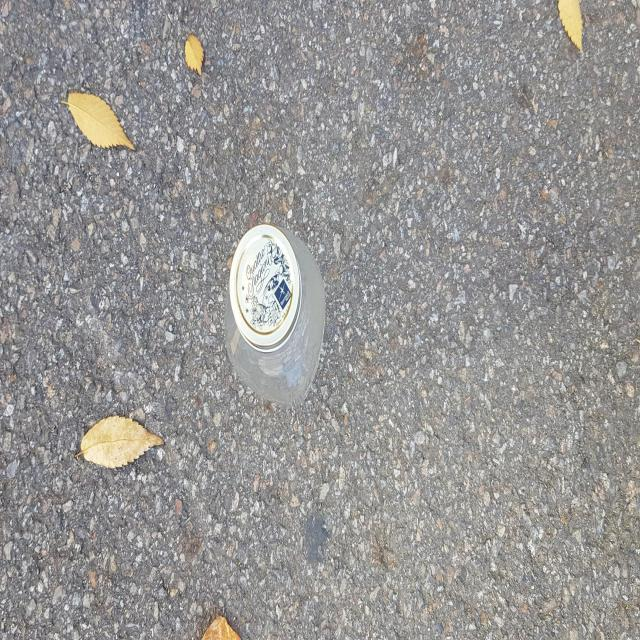glass: (225, 223, 325, 405)
